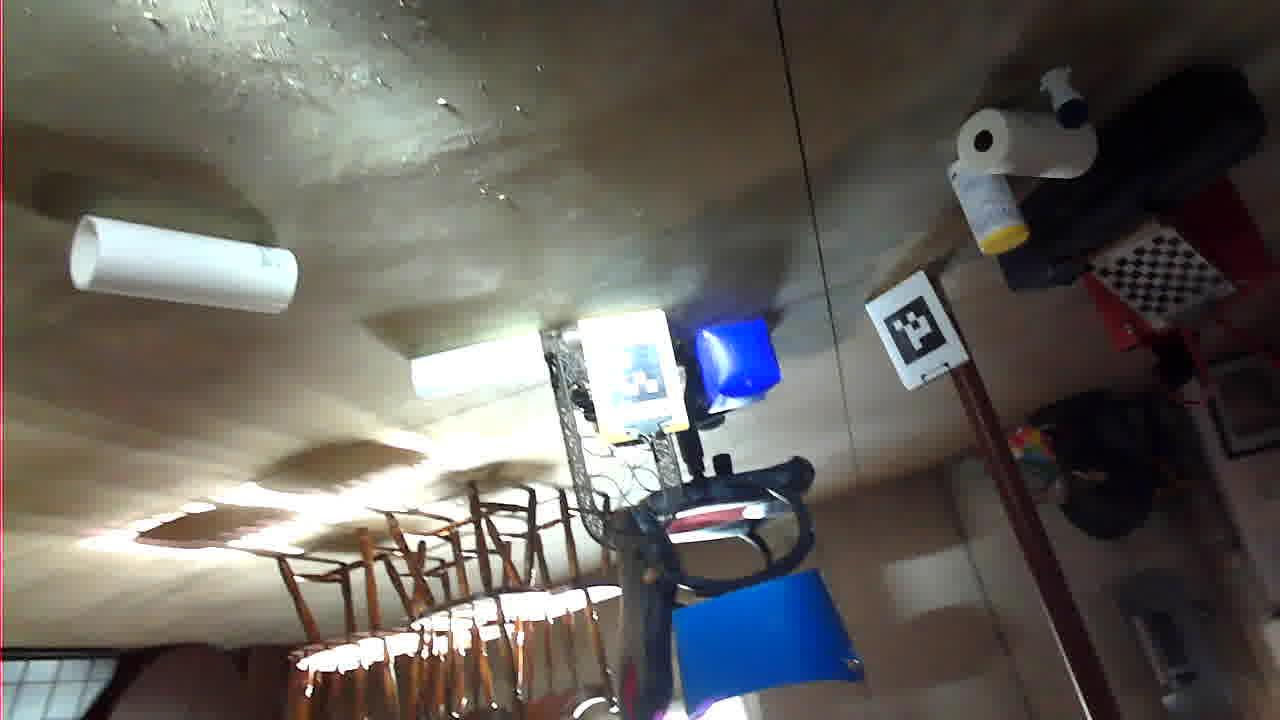coral: (983, 406, 1209, 505), (736, 323, 868, 388)
